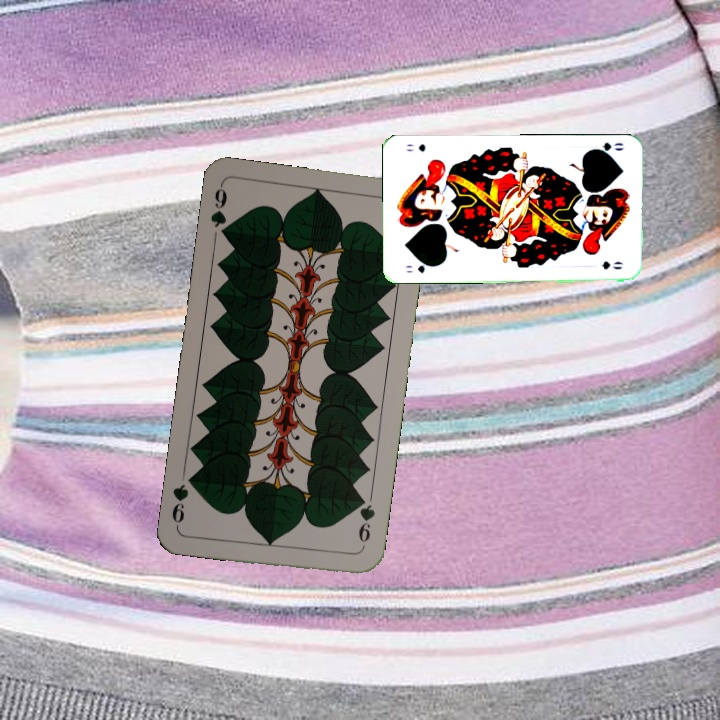G9: (206, 181, 232, 242), (354, 492, 378, 552)
GO: (586, 138, 626, 157), (401, 259, 438, 275)
